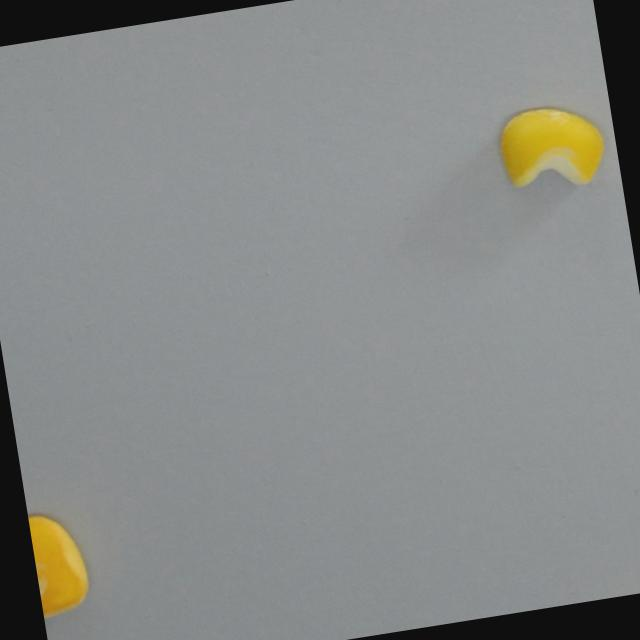pelicula: (489, 95, 614, 201)
